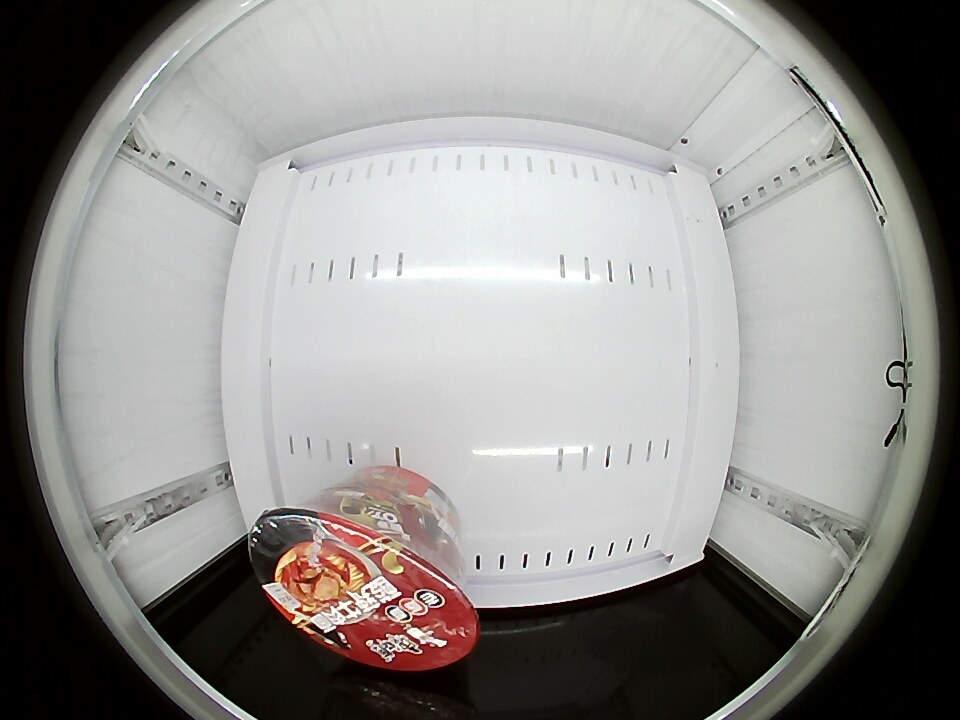suanlaniurou: (251, 501, 479, 670)
